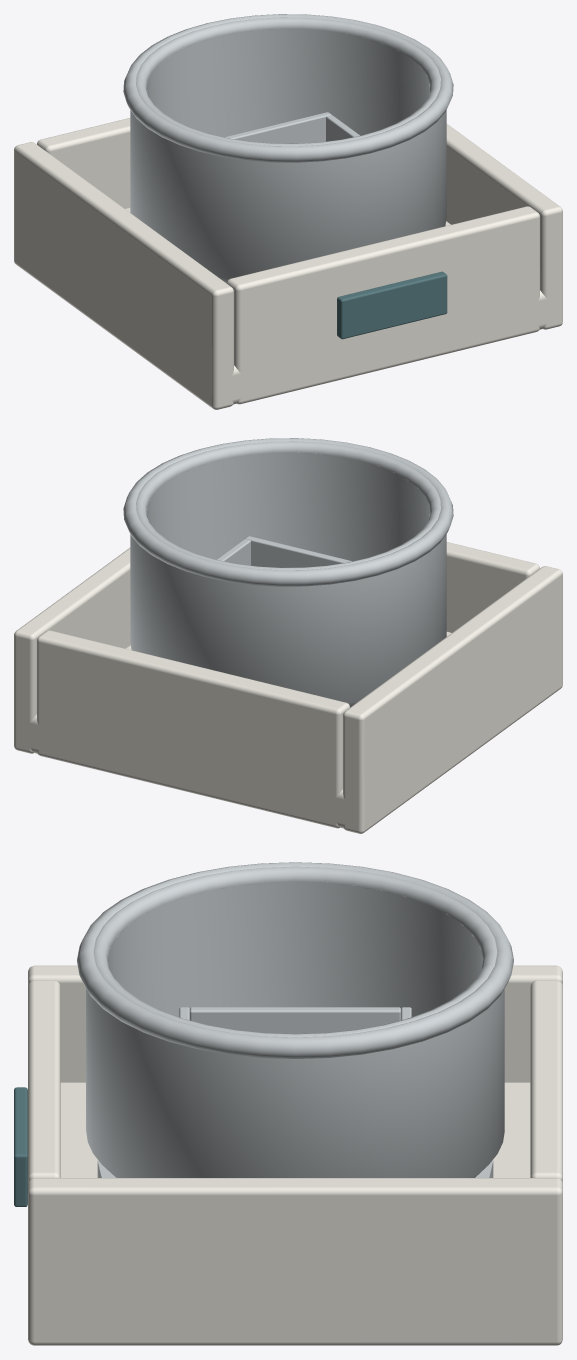
Rendered from hearing-aid-and-audiology-clinic-ultrasonic-service-cl-960967c6__31753.glb.
3 views of the same model, one above another, from view 1: azimuth 30°, elevation 25°; view 2: azimuth 150°, elevation 25°; view 3: azimuth 270°, elevation 25° (orthographic). The views are drawn at different scales.
Parts seen in each view (by area): view 1: ultrasonic-service-cleaner; view 2: ultrasonic-service-cleaner; view 3: ultrasonic-service-cleaner.
Boxes of the visible parts, x1,y1,x2,y2 form: ultrasonic-service-cleaner: [14, 14, 562, 409]; ultrasonic-service-cleaner: [14, 438, 562, 833]; ultrasonic-service-cleaner: [14, 862, 562, 1345].
Bounding box in the file's own units: 0.23 × 0.135 × 0.236.
